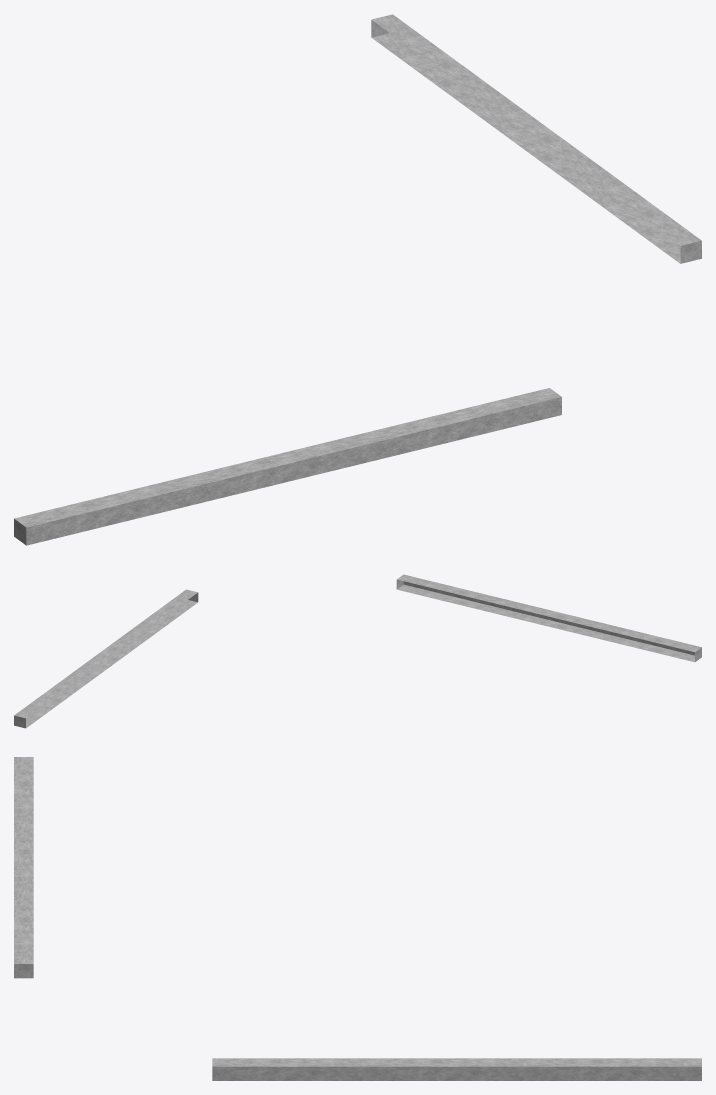
The model's file is buildig.002_concrete_0_lev3.glb.
The picture shows the model from 3 angles, top to bottom: view 1: azimuth 30°, elevation 25°; view 2: azimuth 150°, elevation 25°; view 3: azimuth 270°, elevation 25°; orthographic projection. The views are drawn at different scales.
Visible parts, largest first — view 1: buildig.002_concrete_0_lev3; view 2: buildig.002_concrete_0_lev3; view 3: buildig.002_concrete_0_lev3.
Part boxes in pixels (left/top/right/bottom): buildig.002_concrete_0_lev3: left=14, top=14, right=701, bottom=545; buildig.002_concrete_0_lev3: left=14, top=574, right=701, bottom=728; buildig.002_concrete_0_lev3: left=14, top=757, right=701, bottom=1080.
Bounding box in the file's own units: 1.09 × 0.0236 × 1.03.
Materials: 1 (1 with a texture image).
